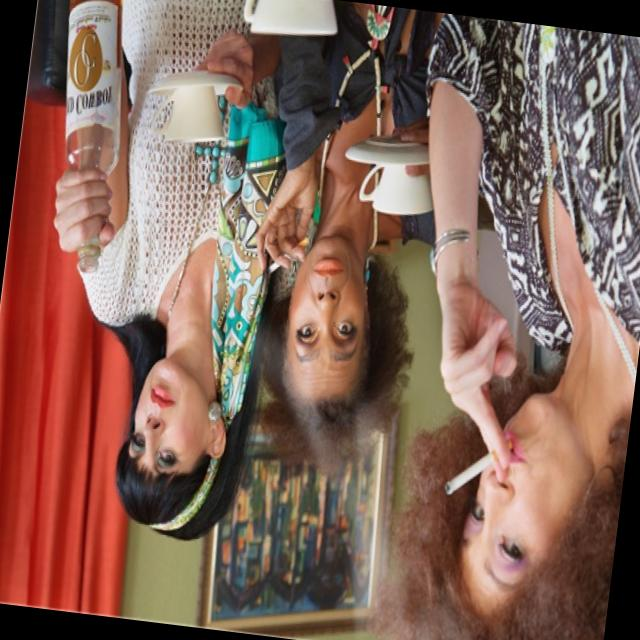cigarette: (440, 430, 520, 507)
